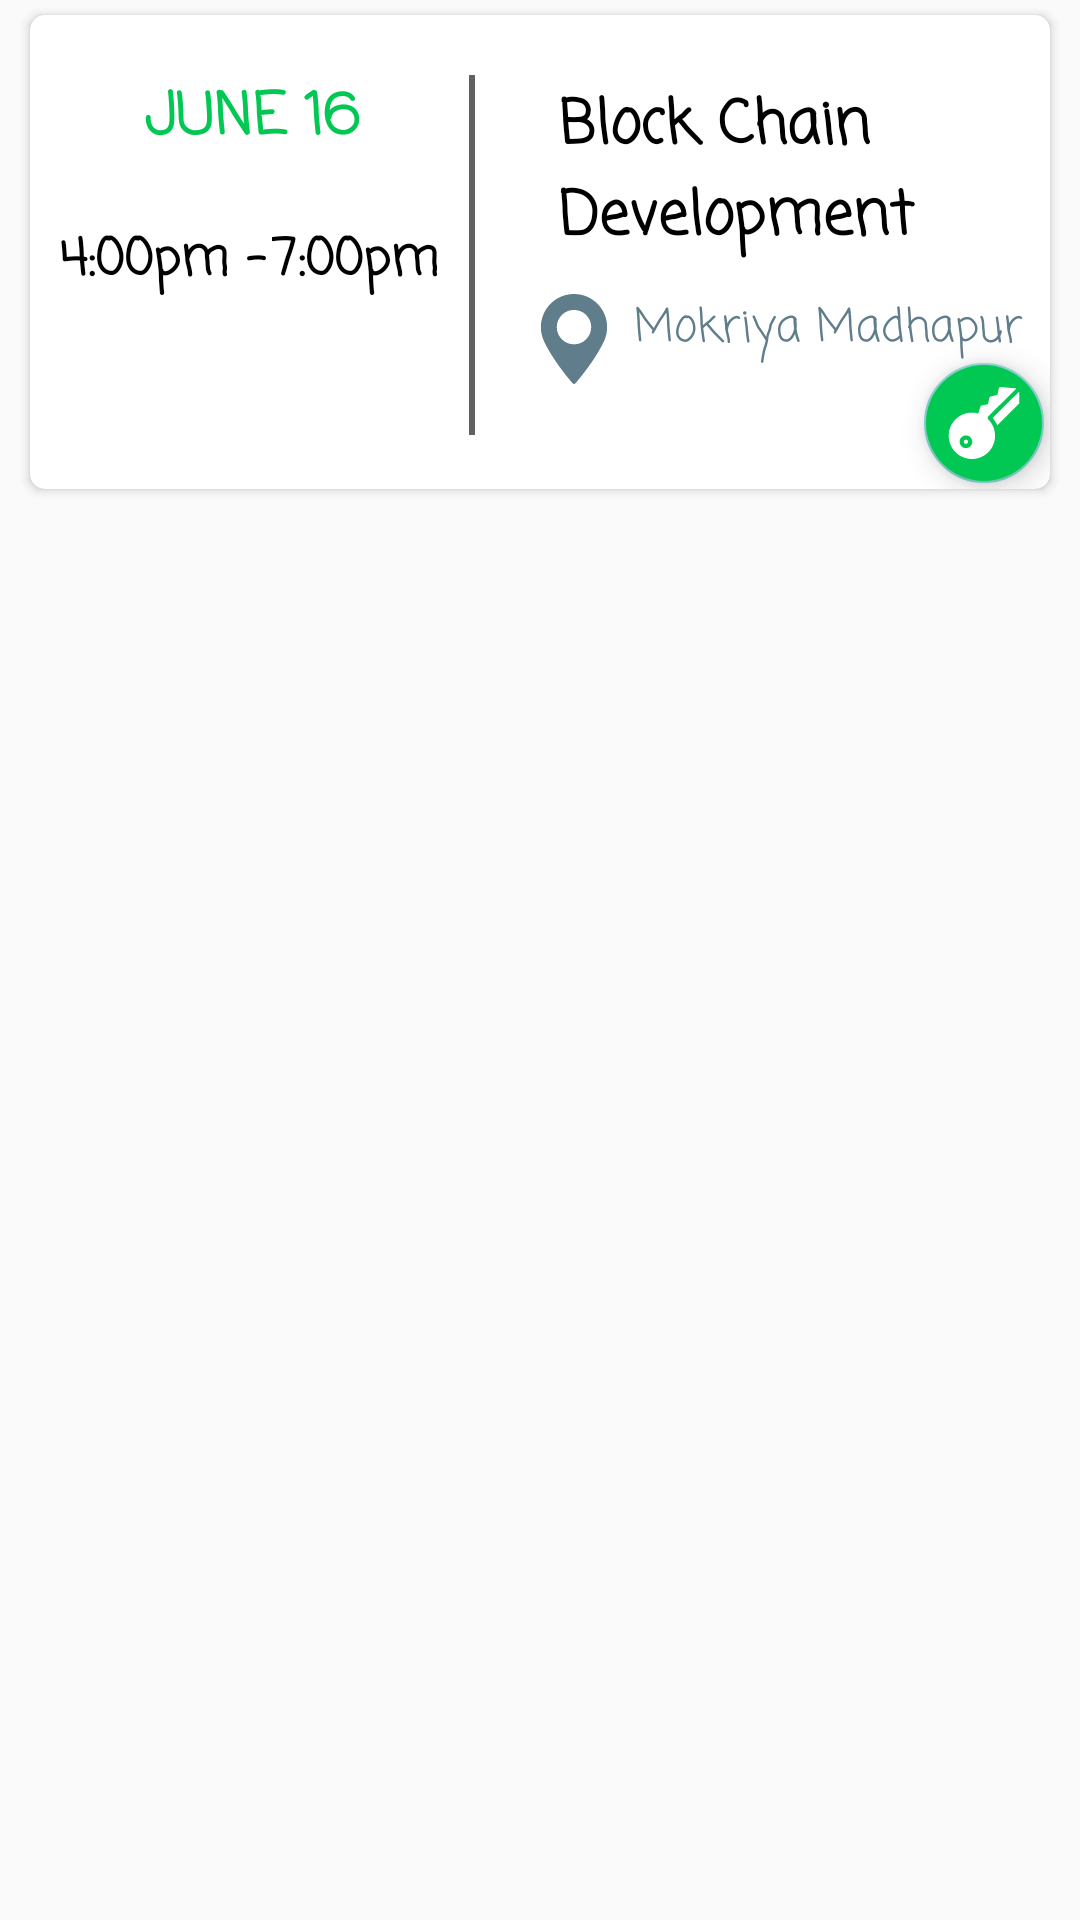

Icon bounding boxes for this 1080 × 1920 phone screenshot, format (x1, y1, x2, y2):
key: (924, 363, 1044, 483)
